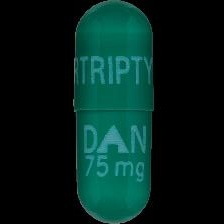21695-600: (0, 0, 224, 224)
